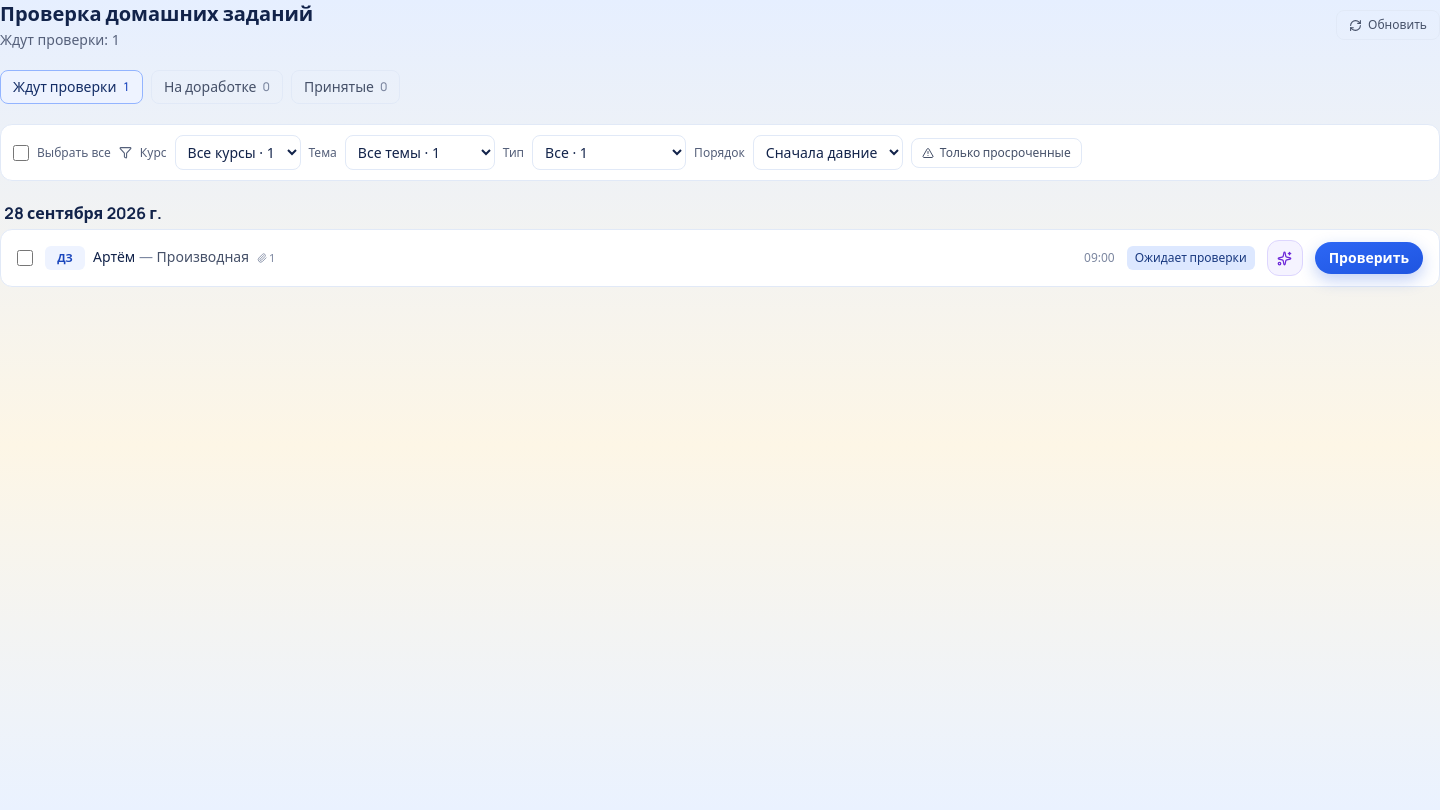
Test: §252 — пометки ИИ уходят ученику при вердикте › галочка включена сразу; уходят «неверно», «частично», «не решено», «верно» — серым
Click the text "Артём" at (114, 256), box [93,247,135,266]
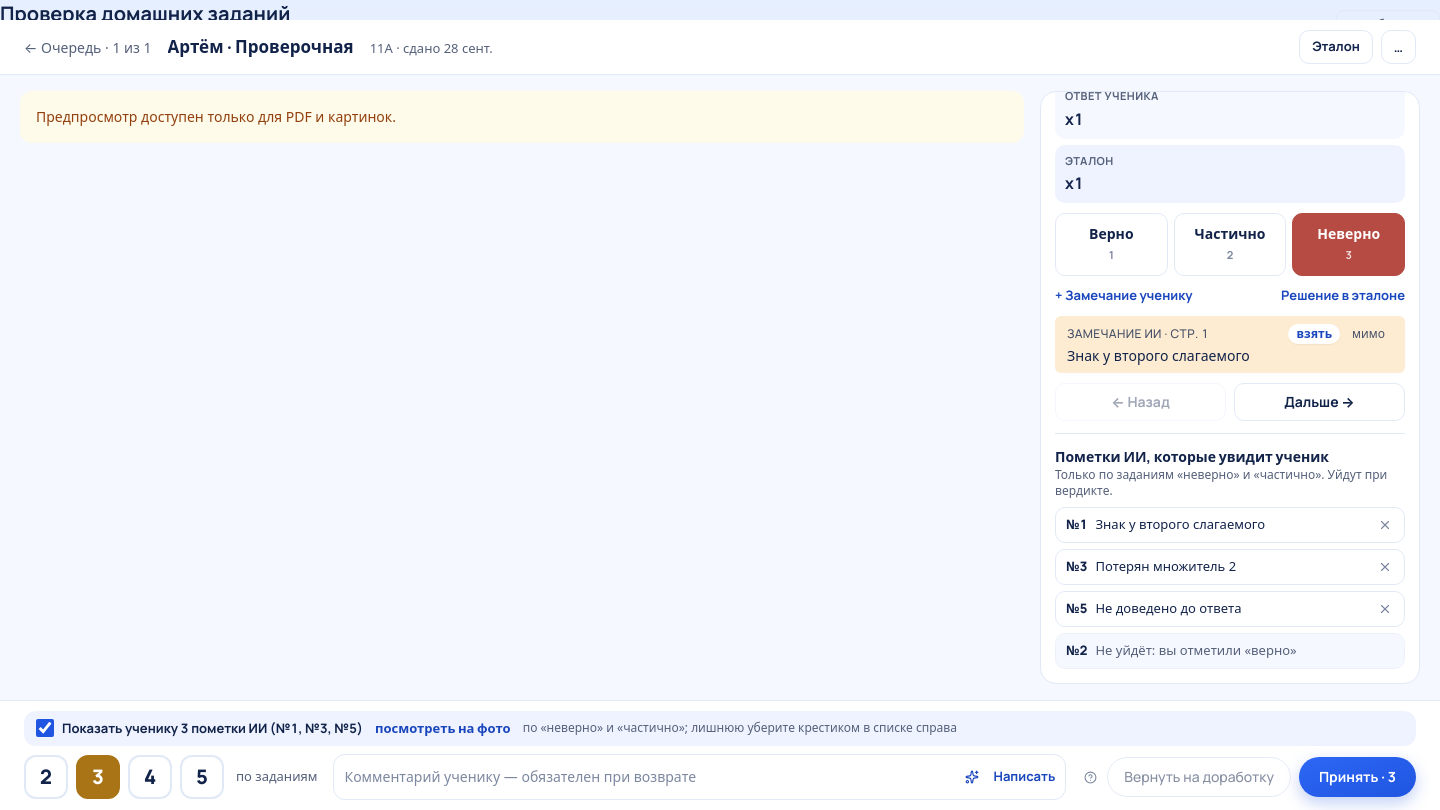
Now the checkbox with test id "ai-marks-checkbox" is checked, box [36,719,54,737]
Now the text with test id "ai-marks-label" reads "Показать ученику 3 пометки ИИ (№1, №3, №5)", box [62,718,363,736]
Now the list item with test id "ai-marks-dropped" shows "Не уйдёт: вы отметили «верно»", box [1095,641,1297,659]
